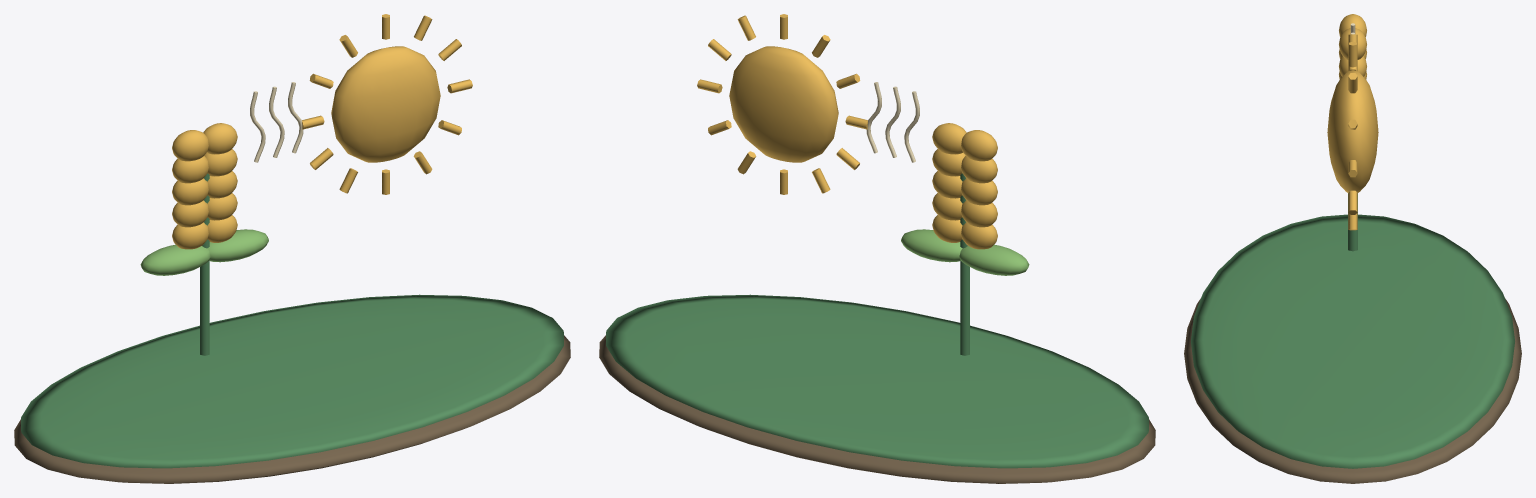
The model's file is fragrant-grain.glb.
The picture shows the model from 3 angles, left to right: view 1: azimuth 30°, elevation 25°; view 2: azimuth 150°, elevation 25°; view 3: azimuth 270°, elevation 25°; orthographic projection.
Visible parts, largest first — view 1: fragrant-grain_surface_01, fragrant-grain_surface_03, fragrant-grain_surface_00, fragrant-grain_surface_02, fragrant-grain_surface_04; view 2: fragrant-grain_surface_01, fragrant-grain_surface_03, fragrant-grain_surface_00, fragrant-grain_surface_02, fragrant-grain_surface_04; view 3: fragrant-grain_surface_01, fragrant-grain_surface_03, fragrant-grain_surface_00.
Boxes of the visible parts, left/top/right/bottom form: fragrant-grain_surface_01: left=21, top=173, right=563, bottom=468; fragrant-grain_surface_03: left=172, top=14, right=472, bottom=249; fragrant-grain_surface_00: left=14, top=335, right=570, bottom=483; fragrant-grain_surface_02: left=140, top=229, right=268, bottom=275; fragrant-grain_surface_04: left=250, top=82, right=303, bottom=162; fragrant-grain_surface_01: left=606, top=173, right=1148, bottom=468; fragrant-grain_surface_03: left=697, top=14, right=997, bottom=249; fragrant-grain_surface_00: left=599, top=335, right=1155, bottom=483; fragrant-grain_surface_02: left=901, top=229, right=1029, bottom=275; fragrant-grain_surface_04: left=866, top=82, right=919, bottom=162; fragrant-grain_surface_01: left=1191, top=193, right=1514, bottom=468; fragrant-grain_surface_03: left=1327, top=14, right=1378, bottom=230; fragrant-grain_surface_00: left=1184, top=298, right=1521, bottom=483.
Size of the model in its own units: 4.56 by 3.03 by 2.5.
